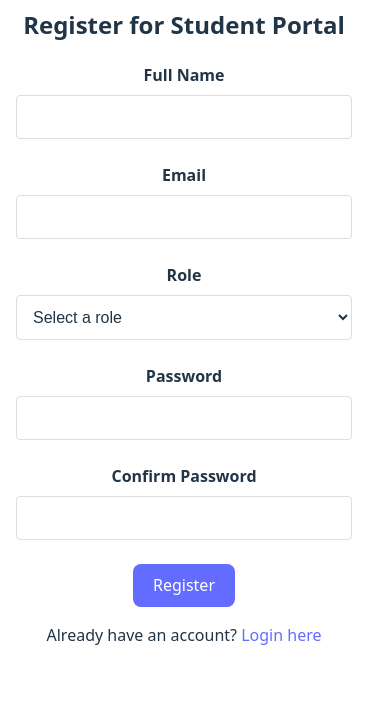
RegisterPage › should show validation error for short name
Type "A" into the field labelled "Full Name" at (184, 117), box [16, 95, 352, 139]
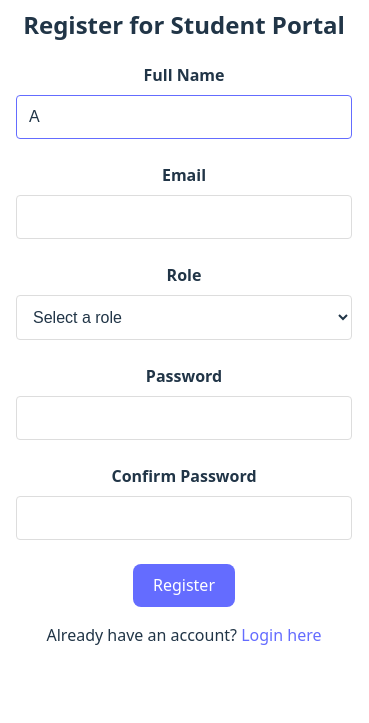
Submit the form
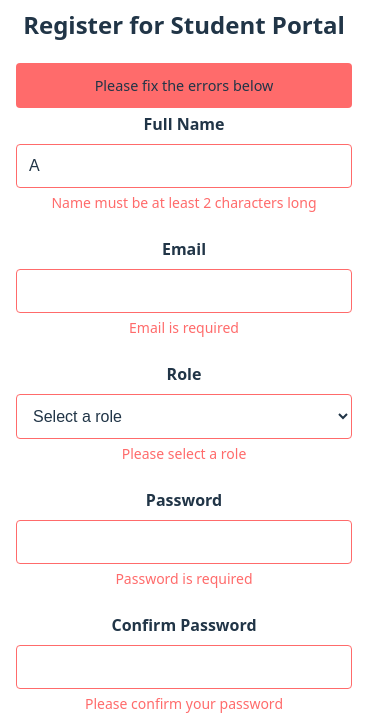
Check: the text "Name must be at least 2 characters long" is shown, box [52, 193, 317, 212]
